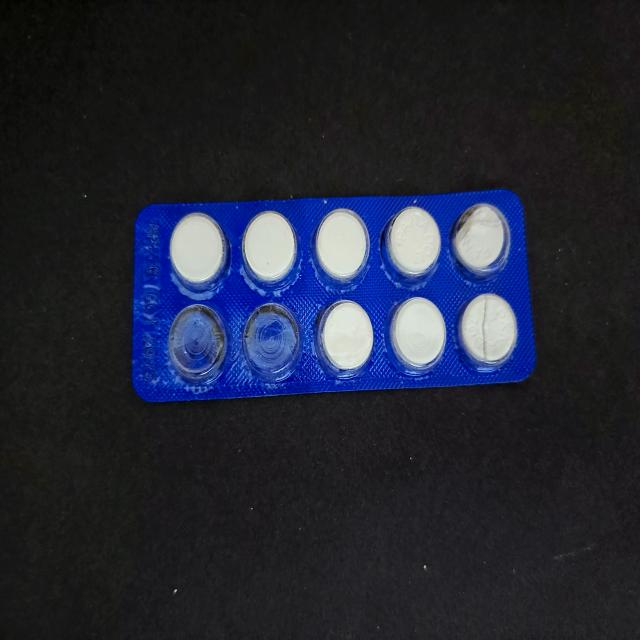defect: (454, 289, 521, 375), (166, 302, 230, 388), (240, 299, 304, 385), (448, 200, 514, 283)
